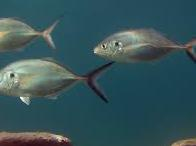Carangidae -Jacks-: (87, 21, 196, 73), (0, 53, 114, 102), (0, 9, 66, 55)
